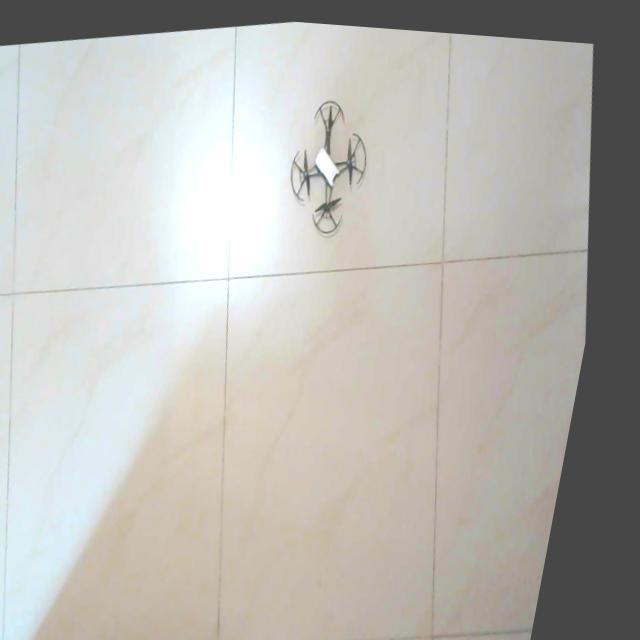drone: (295, 93, 371, 228)
